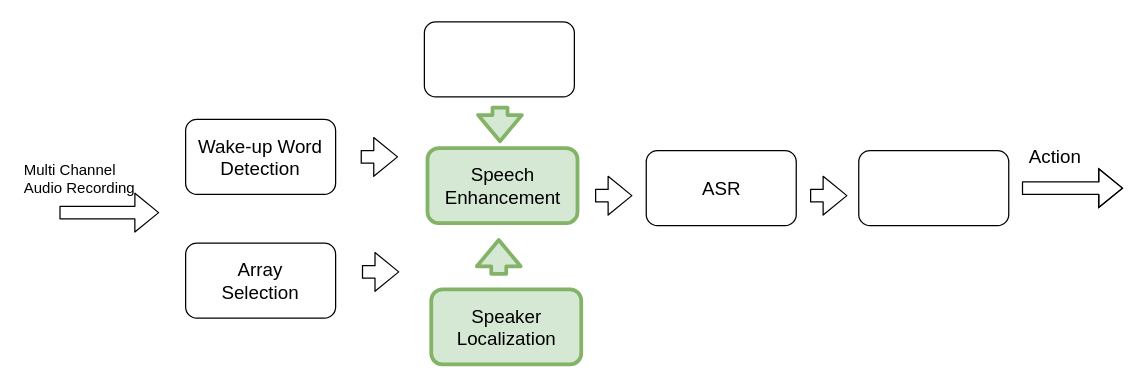
Image size: 1144x388. Some labels were removed from this diagram. Each missing label, with the box of its shape:
NLU: (858, 149, 1009, 226)
Speech Endpointing: (423, 21, 574, 97)
